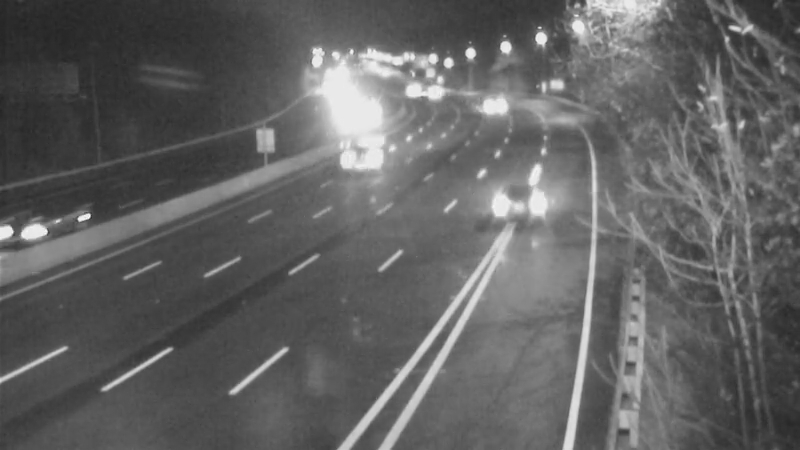vehicle: (324, 115, 404, 195), (477, 158, 557, 238), (1, 188, 78, 268), (389, 65, 439, 115), (410, 67, 460, 117), (465, 77, 515, 127)
